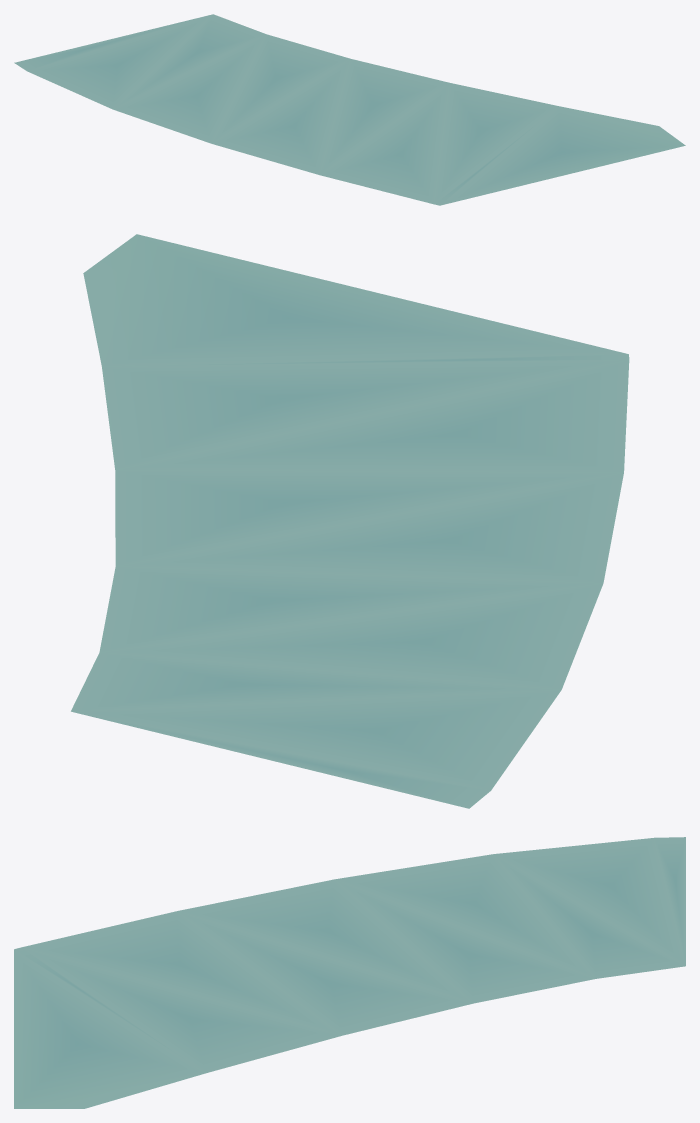
Rendered from water-13-4.glb.
3 renders of one model, top to bottom at view 1: azimuth 30°, elevation 25°; view 2: azimuth 150°, elevation 25°; view 3: azimuth 270°, elevation 25°, orthographic. The views are drawn at different scales.
Size of the model in its own units: 15.31 by 0 by 16.
